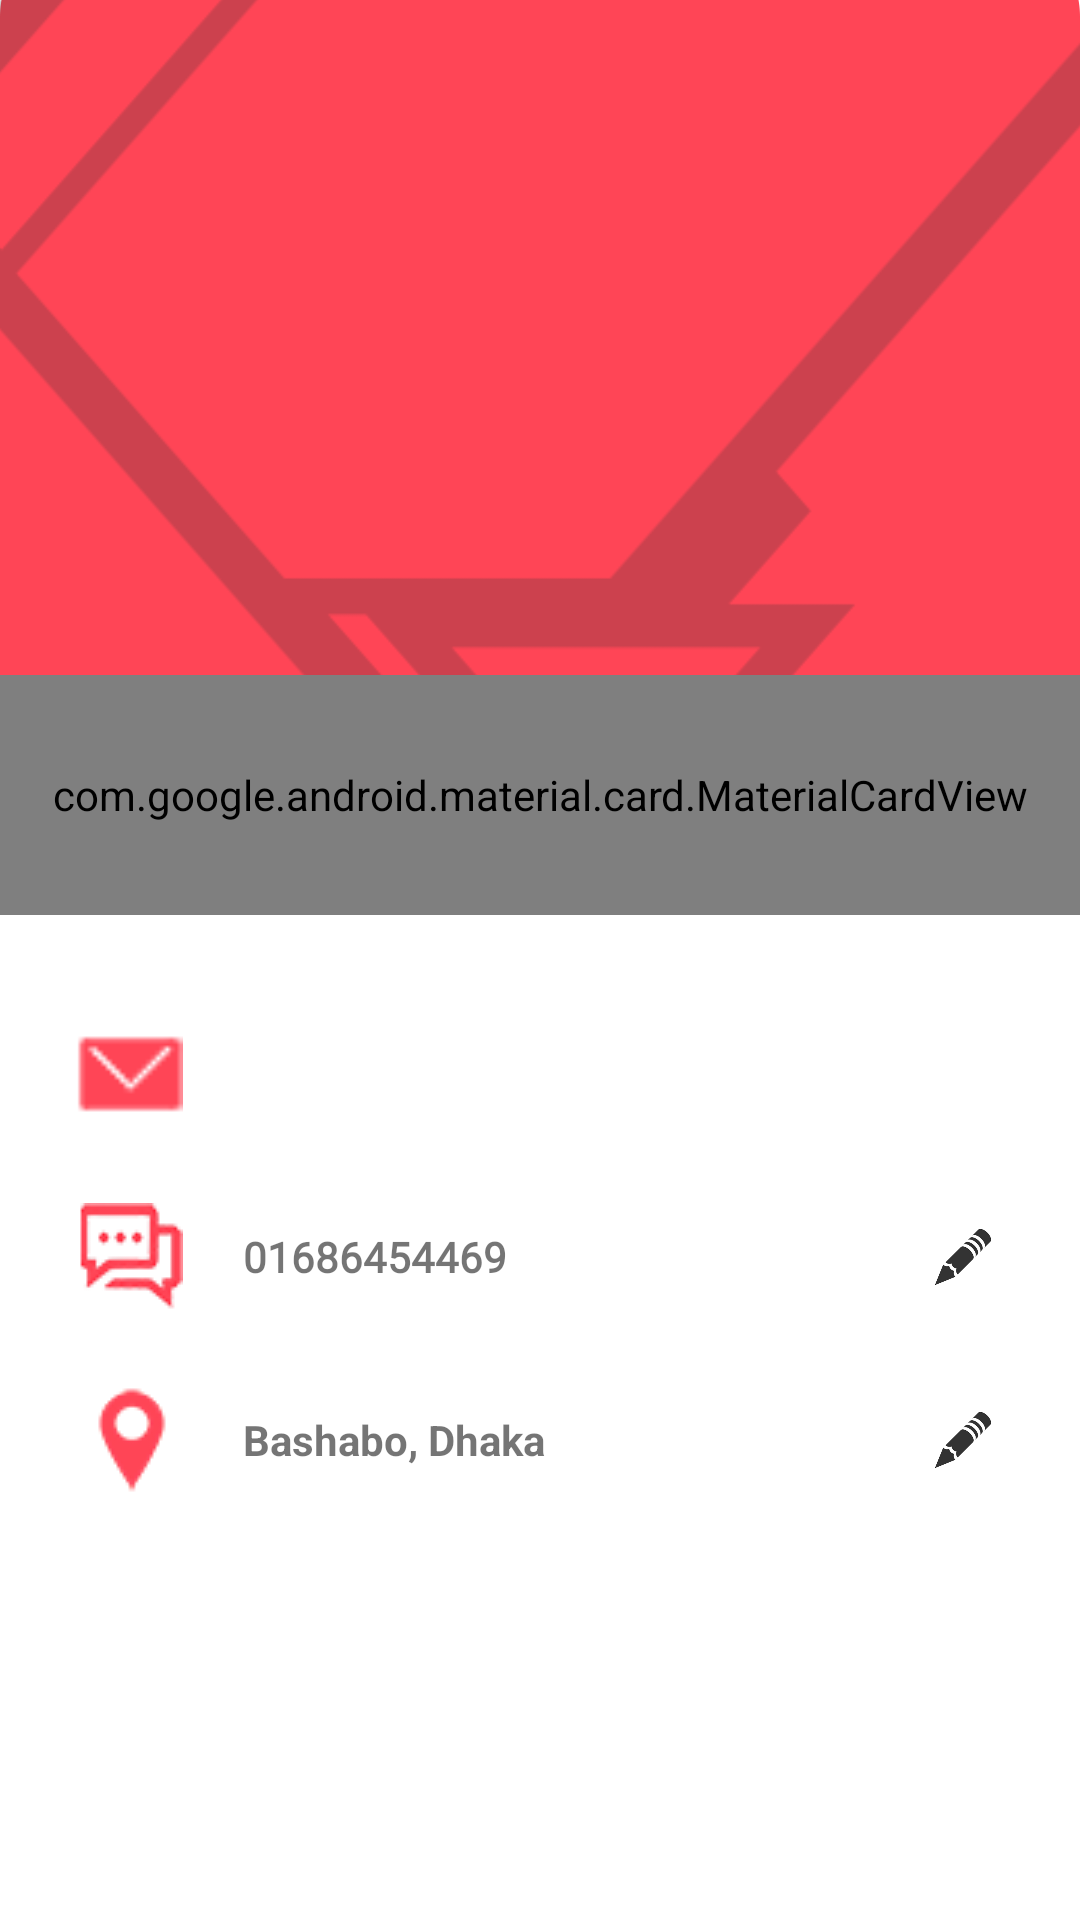

Where to tap for icons on this 1080x1920 app screen, as (x,y):
edit: (963,1257), (963,1440)
minicon: (131,1255)
miniloc: (132,1439)
minimes: (130,1074)
